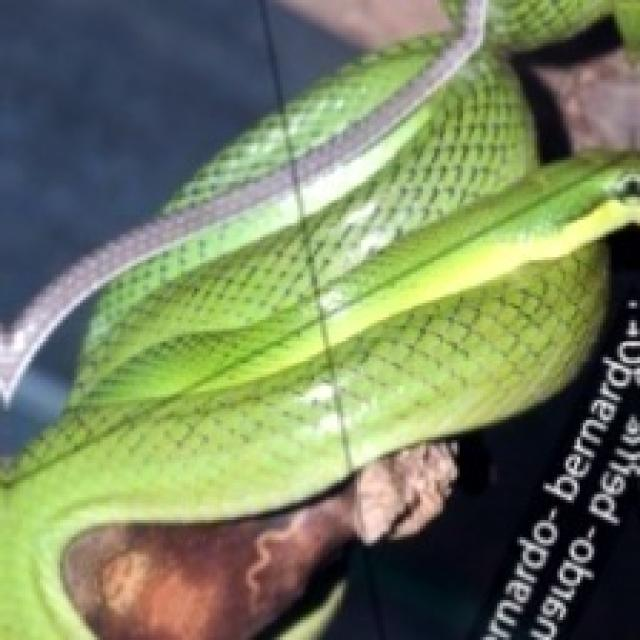red-tailed green ratsnake: (0, 0, 637, 637), (506, 517, 591, 637)
